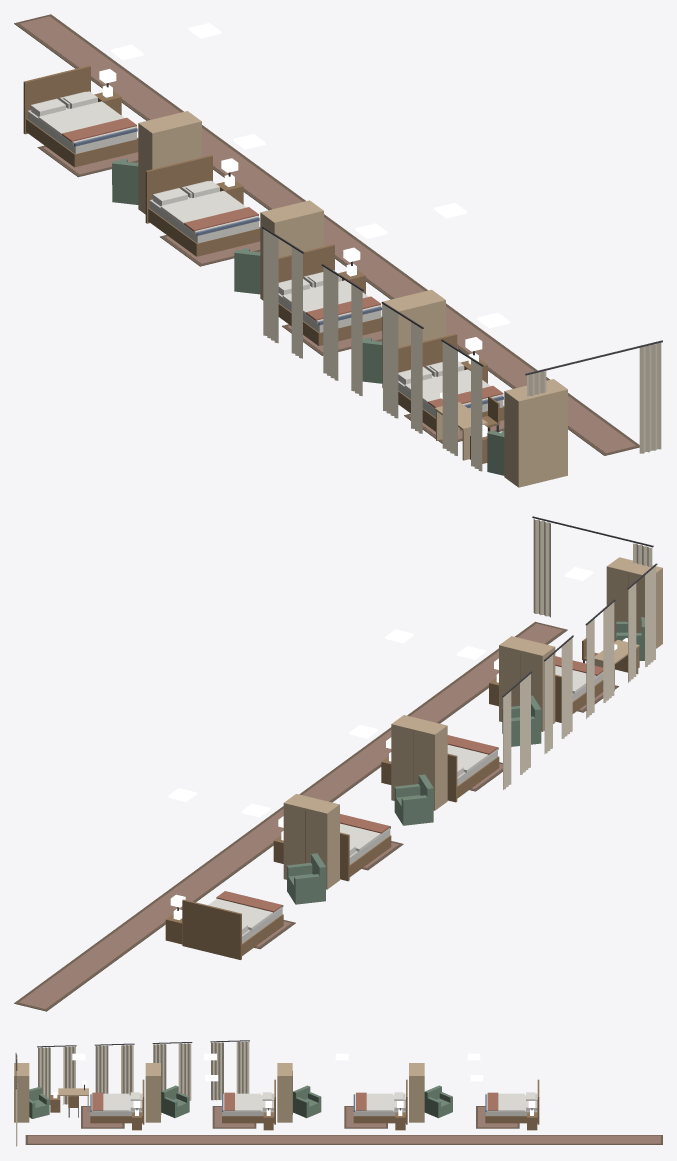
File: fine-s1.glb
3 renders of one model, top to bottom at view 1: azimuth 30°, elevation 25°; view 2: azimuth 150°, elevation 25°; view 3: azimuth 270°, elevation 25°, orthographic. The views are drawn at different scales.
Parts seen in each view (by area): view 1: soft-s1, dresser.003, bed-frame.001, bed-frame.000, dresser.000, bed-frame.002, dresser.001, dresser.002, bed-frame.003, lounge-chair.000, lounge-chair.001, lounge-chair.002 (+2 smaller); view 2: soft-s1, dresser.001, dresser.000, bed-frame.000, dresser.002, dresser.003, lounge-chair.001, lounge-chair.000, bed-frame.002, bed-frame.001, lounge-chair.002, bed-frame.003; view 3: soft-s1, dresser.002, dresser.000, dresser.001, dresser.003, lounge-chair.002, bed-frame.003, bed-frame.000, lounge-chair.000, lounge-chair.001, bed-frame.001, bed-frame.002 (+7 smaller).
Boxes of the visible parts, x1=… form: soft-s1: x1=14, y1=14, x2=662, y2=471; dresser.003: x1=504, y1=379, x2=567, y2=487; bed-frame.001: x1=145, y1=155, x2=260, y2=256; bed-frame.000: x1=23, y1=65, x2=138, y2=167; dresser.000: x1=138, y1=111, x2=201, y2=214; bed-frame.002: x1=278, y1=244, x2=382, y2=345; dresser.001: x1=260, y1=200, x2=323, y2=300; dresser.002: x1=382, y1=289, x2=445, y2=387; bed-frame.003: x1=398, y1=333, x2=504, y2=431; lounge-chair.000: x1=112, y1=158, x2=138, y2=204; lounge-chair.001: x1=234, y1=248, x2=260, y2=294; lounge-chair.002: x1=362, y1=337, x2=382, y2=383; soft-s1: x1=14, y1=516, x2=657, y2=1011; dresser.001: x1=391, y1=715, x2=447, y2=810; dresser.000: x1=283, y1=794, x2=339, y2=889; bed-frame.000: x1=182, y1=899, x2=283, y2=959; dresser.002: x1=499, y1=636, x2=555, y2=731; dresser.003: x1=606, y1=557, x2=662, y2=648; lounge-chair.001: x1=394, y1=774, x2=433, y2=825; lounge-chair.000: x1=287, y1=853, x2=325, y2=904; bed-frame.002: x1=447, y1=747, x2=499, y2=802; bed-frame.001: x1=340, y1=826, x2=391, y2=881; lounge-chair.002: x1=502, y1=695, x2=541, y2=746; bed-frame.003: x1=555, y1=673, x2=603, y2=722; soft-s1: x1=15, y1=1040, x2=662, y2=1146; dresser.002: x1=145, y1=1063, x2=161, y2=1122; dresser.000: x1=409, y1=1063, x2=424, y2=1122; dresser.001: x1=277, y1=1063, x2=292, y2=1122; dresser.003: x1=14, y1=1063, x2=29, y2=1122; lounge-chair.002: x1=161, y1=1085, x2=189, y2=1117; bed-frame.003: x1=90, y1=1079, x2=144, y2=1124; bed-frame.000: x1=485, y1=1079, x2=539, y2=1124; lounge-chair.000: x1=424, y1=1085, x2=452, y2=1118; lounge-chair.001: x1=293, y1=1085, x2=321, y2=1118; bed-frame.001: x1=353, y1=1079, x2=407, y2=1124; bed-frame.002: x1=222, y1=1079, x2=275, y2=1124.
Size of the model in its own units: 4.46 by 2.69 by 25.28.
